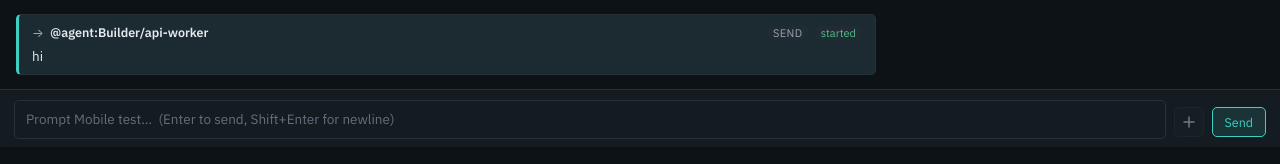
Test: TranscriptPane agent message navigation › scrolls the peer transcript to the card with the same envelope id
The width and height of the screenshot is (1280, 164).
Click the button "@agent:Builder/api-worker" at (129, 32), box [50,24,208,40]
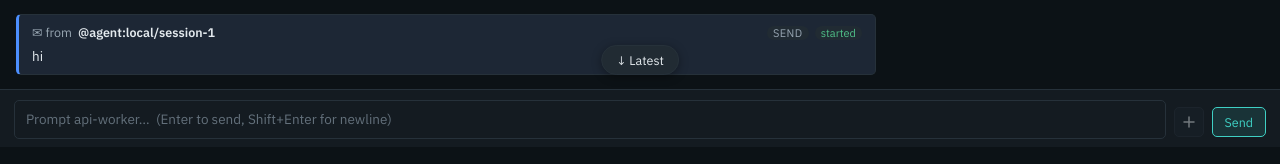
Expected: the element with class "agent-msg" is shown, [16,14,876,75]
